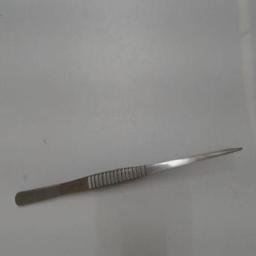DeBakey Dissector: (12, 136, 250, 216)
